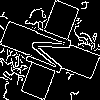M: (25, 25, 82, 80)
